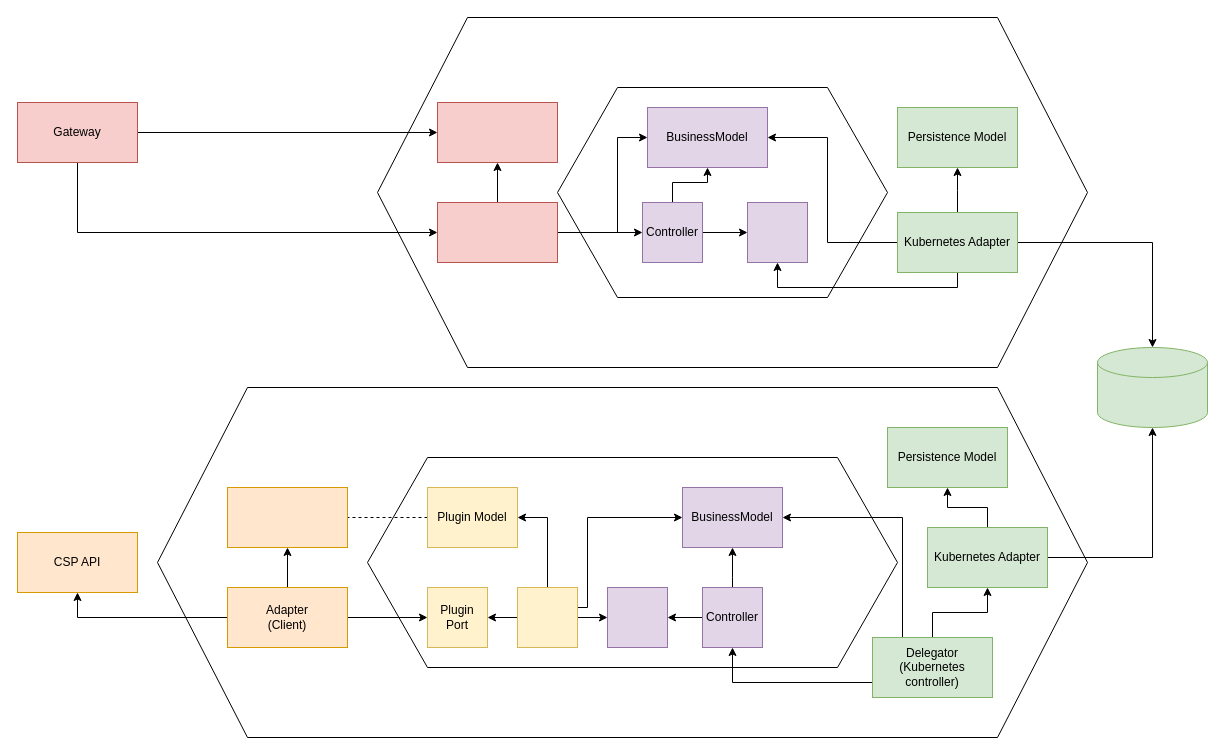
This 1225x755 diagram has some shape labels left out. The shapes that lost their labels are listed below. From the top down, each one's centre as x and y in pixels, then its label:
[497,132]: API Model
[497,232]: Service
[777,232]: Port
[1152,387]: Kubernetes
[287,517]: CSP API Model
[547,617]: Plugin Controller
[637,617]: Delegator Port
